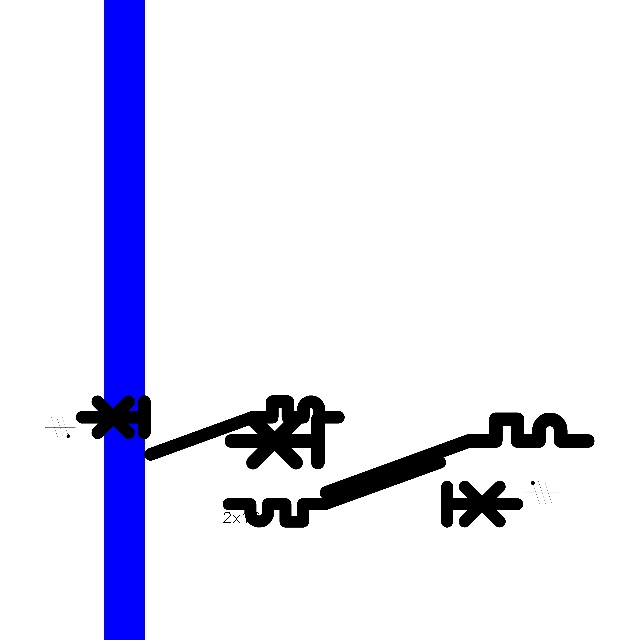interruptor_termomagnetico: (222, 410, 597, 501), (221, 455, 525, 529), (75, 395, 344, 461)
